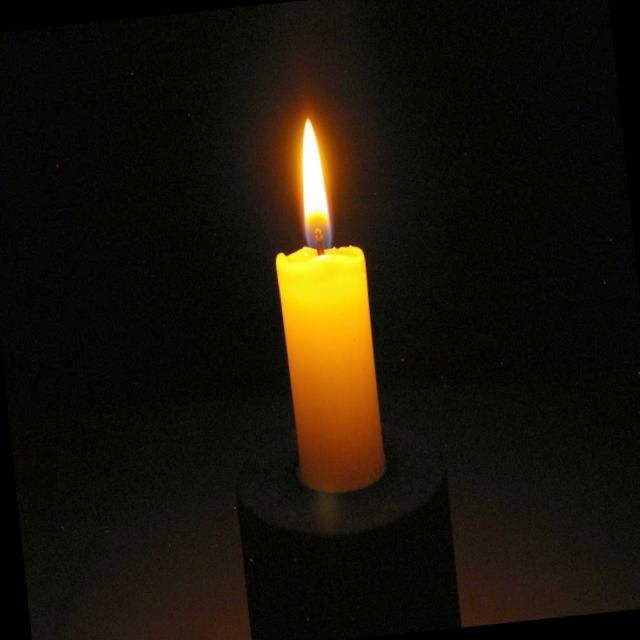Fire_Save: (259, 111, 390, 497)
